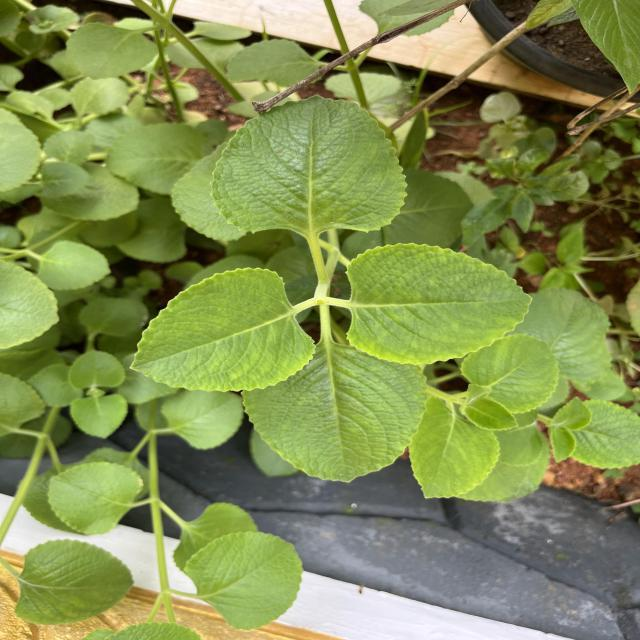Plectranthus barbatus: (209, 94, 408, 236), (127, 266, 317, 392), (343, 241, 533, 367), (239, 362, 431, 484), (182, 531, 304, 632), (12, 538, 134, 626), (408, 396, 502, 500), (459, 332, 562, 414), (47, 461, 145, 536), (569, 398, 639, 471), (162, 390, 245, 450), (38, 239, 112, 291), (68, 394, 130, 439), (66, 349, 126, 389), (463, 396, 519, 432)
